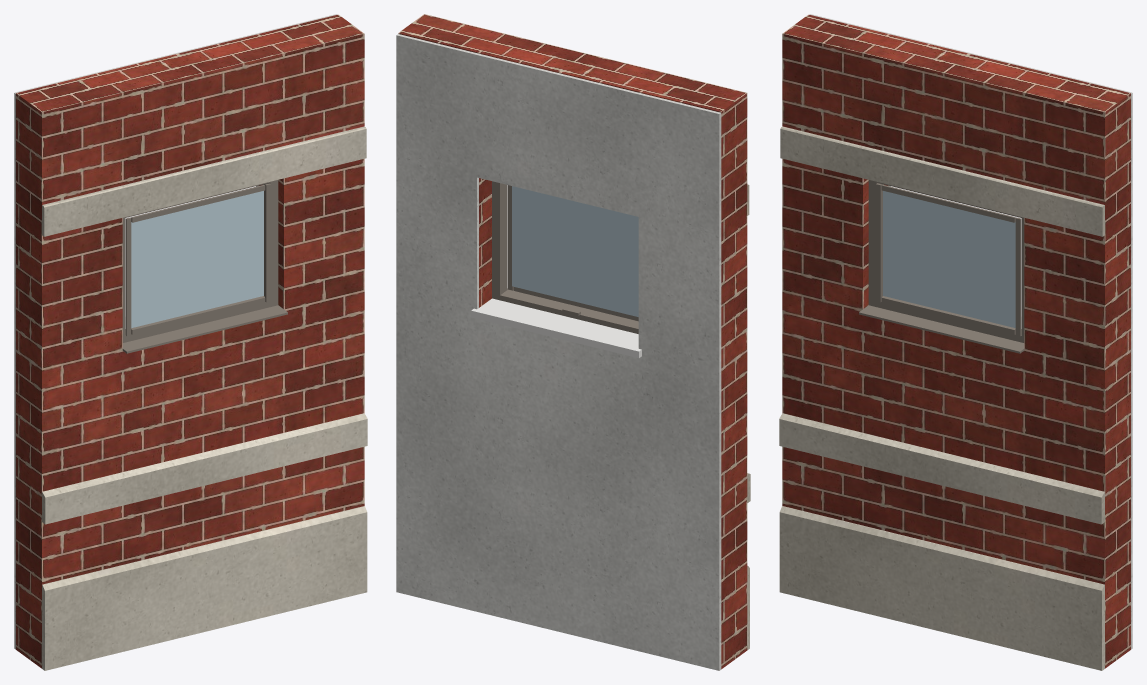
3 renders of one model, left to right at view 1: azimuth 30°, elevation 25°; view 2: azimuth 150°, elevation 25°; view 3: azimuth 330°, elevation 25°, orthographic.
Parts seen in each view (by area): view 1: w_g_wc_brick, w_g_wc_precast, w_g_wc_glass, w_g_wc_alu, w_g_wc_plaster; view 2: w_g_wc_plaster, w_g_wc_brick, w_g_wc_glass, w_g_wc_alu, w_g_wc_trim; view 3: w_g_wc_brick, w_g_wc_precast, w_g_wc_glass, w_g_wc_alu, w_g_wc_plaster.
Part boxes in pixels (x1,y1,x2,y2): w_g_wc_brick: [16, 14, 364, 668]; w_g_wc_precast: [42, 126, 367, 670]; w_g_wc_glass: [131, 191, 263, 327]; w_g_wc_alu: [122, 180, 287, 353]; w_g_wc_plaster: [14, 14, 337, 649]; w_g_wc_plaster: [396, 34, 721, 670]; w_g_wc_brick: [398, 14, 747, 669]; w_g_wc_glass: [512, 186, 638, 316]; w_g_wc_alu: [492, 181, 638, 333]; w_g_wc_trim: [471, 298, 641, 358]; w_g_wc_brick: [782, 14, 1130, 668]; w_g_wc_precast: [779, 126, 1104, 670]; w_g_wc_glass: [883, 191, 1015, 327]; w_g_wc_alu: [859, 180, 1024, 353]; w_g_wc_plaster: [809, 14, 1132, 649].
Size of the model in its own units: 2 by 3.3 by 0.375.
6 materials, 3 textured.
